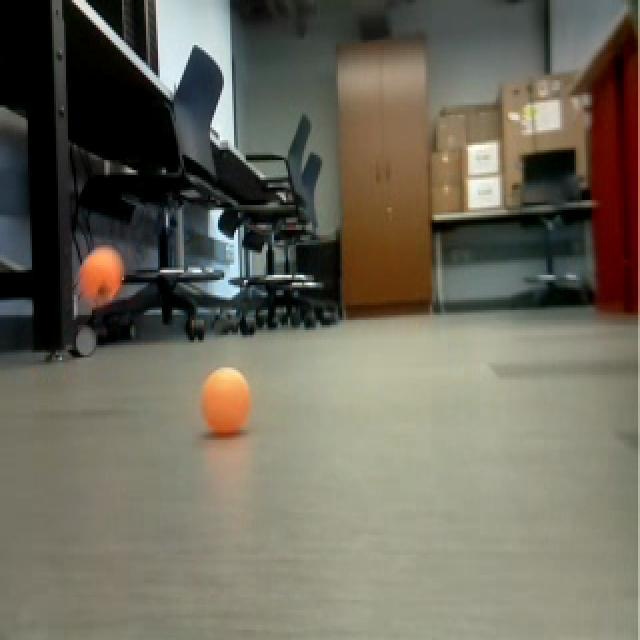oball: (195, 358, 255, 441), (79, 240, 125, 306)
